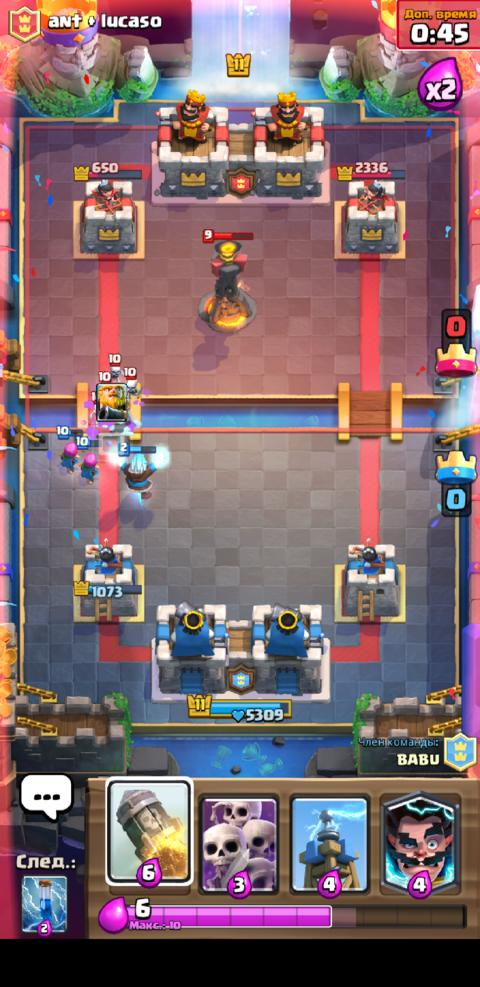ally_archer: (55, 424, 83, 474), (75, 436, 101, 485)
ally_ice_wizard: (107, 442, 170, 499)
enemy_inferno_tower: (196, 228, 258, 334)
enemy_skeleton: (122, 365, 142, 402), (107, 353, 121, 381)
